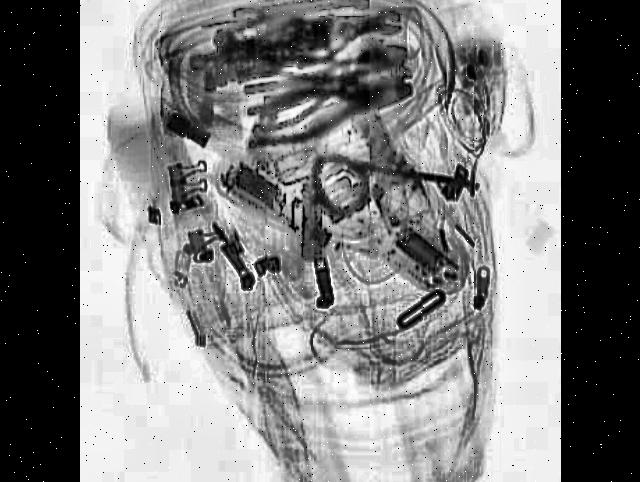Pliers: (241, 61, 414, 160)
Wrench: (322, 7, 400, 43)
